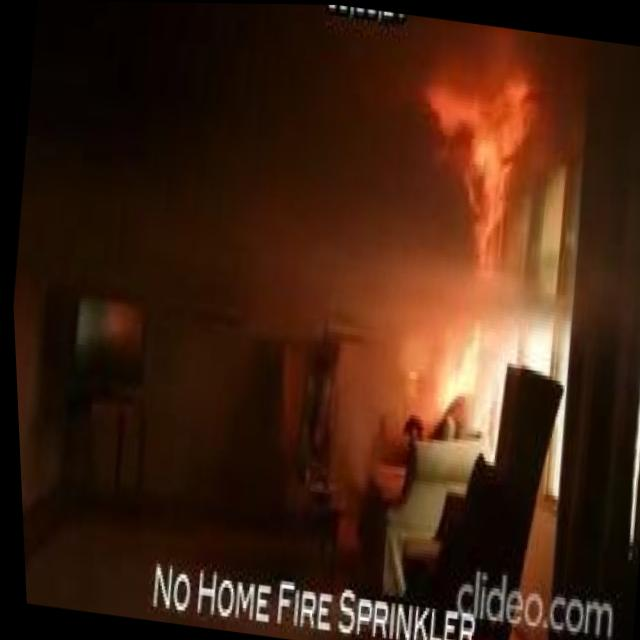fire: (393, 61, 542, 295), (430, 310, 483, 429)
